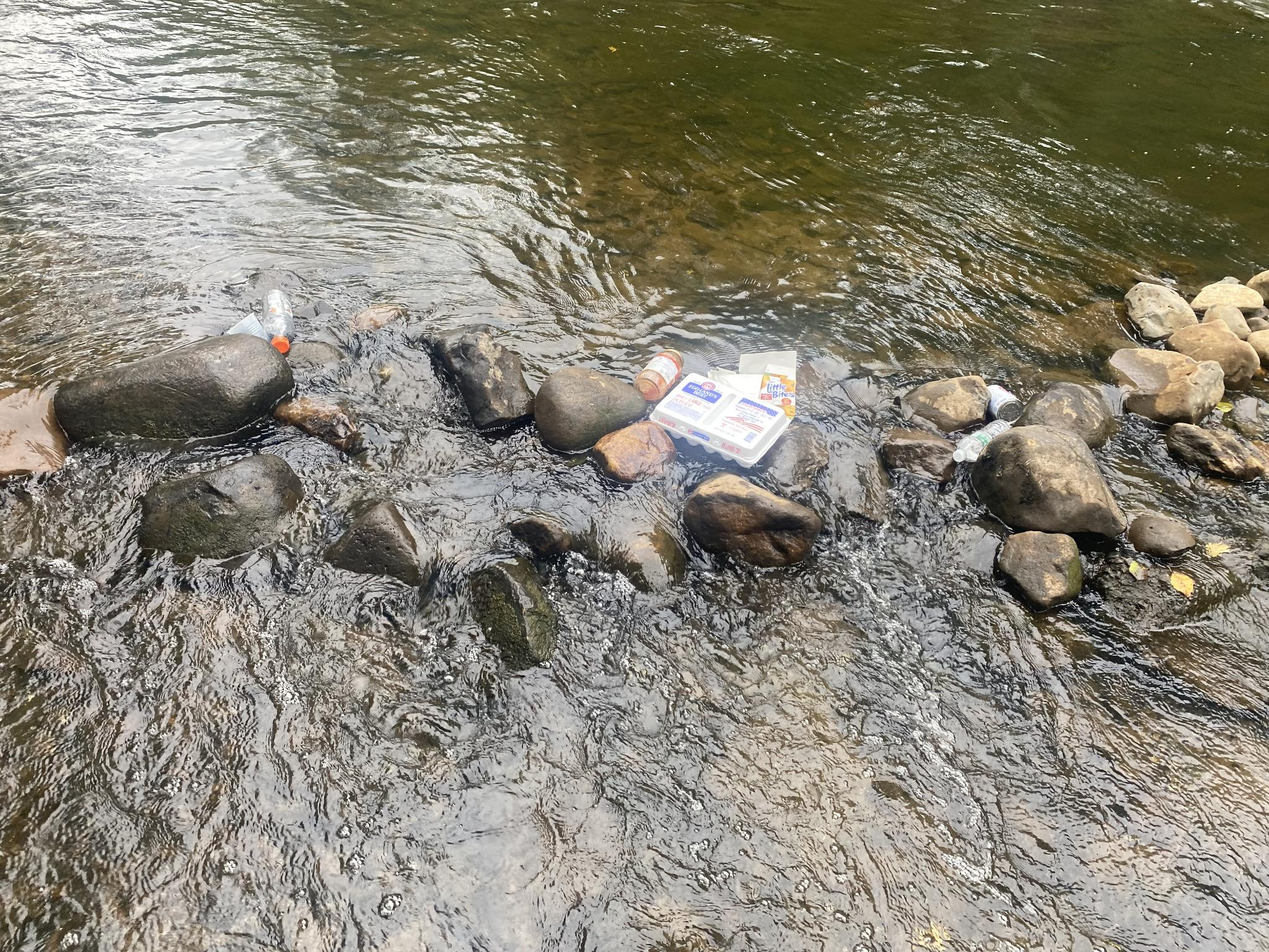cardboard: (699, 337, 803, 427)
glass: (623, 343, 690, 406)
metal: (977, 379, 1028, 431)
plastic: (646, 369, 796, 473), (945, 413, 1020, 467), (257, 279, 309, 354), (226, 305, 271, 358)
